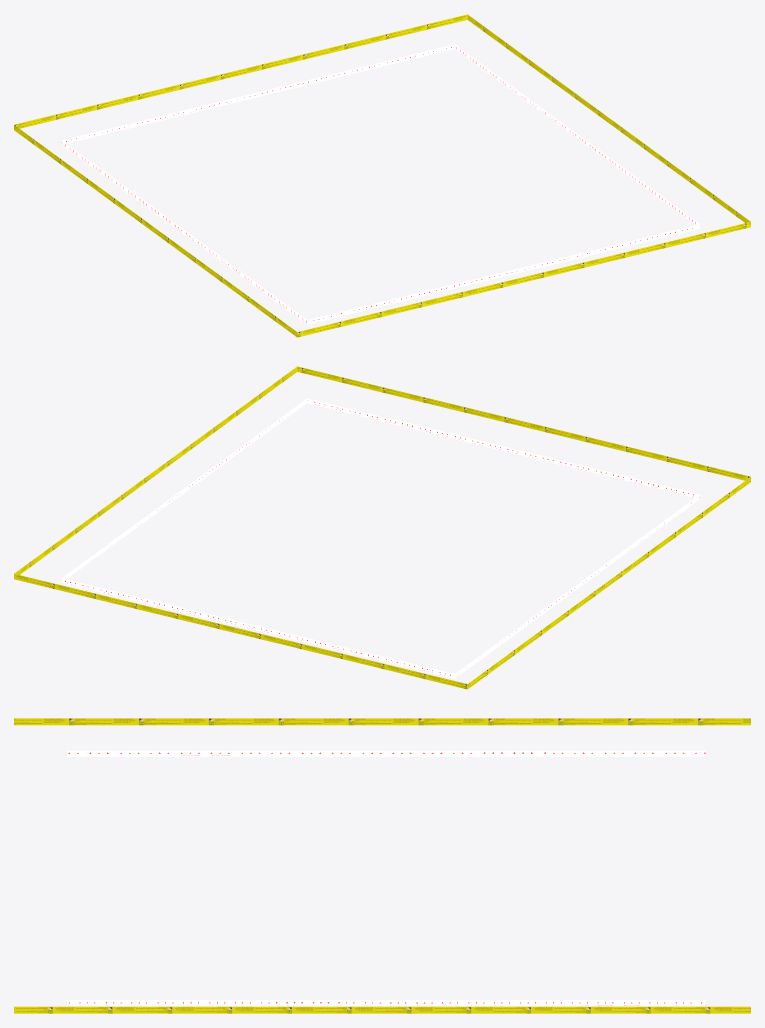
File: jmangoes.glb
3 views of the same model, one above another, from view 1: azimuth 30°, elevation 25°; view 2: azimuth 150°, elevation 25°; view 3: azimuth 270°, elevation 25° (orthographic). The views are drawn at different scales.
Parts seen in each view (by area): view 1: caution; view 2: caution; view 3: caution.
Boxes of the visible parts, bbox=[...] form: caution: bbox=[14, 14, 750, 337]; caution: bbox=[14, 366, 750, 689]; caution: bbox=[14, 718, 750, 1013].
Size of the model in its own units: 1060 by 33.47 by 1147.
Materials: 2 (2 with a texture image).
